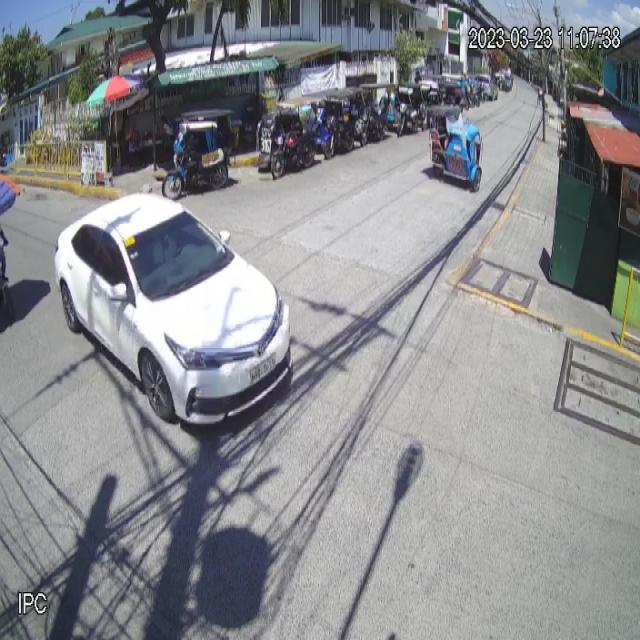Car: (54, 195, 291, 432)
Tricycle: (161, 106, 237, 201), (427, 104, 484, 192)
